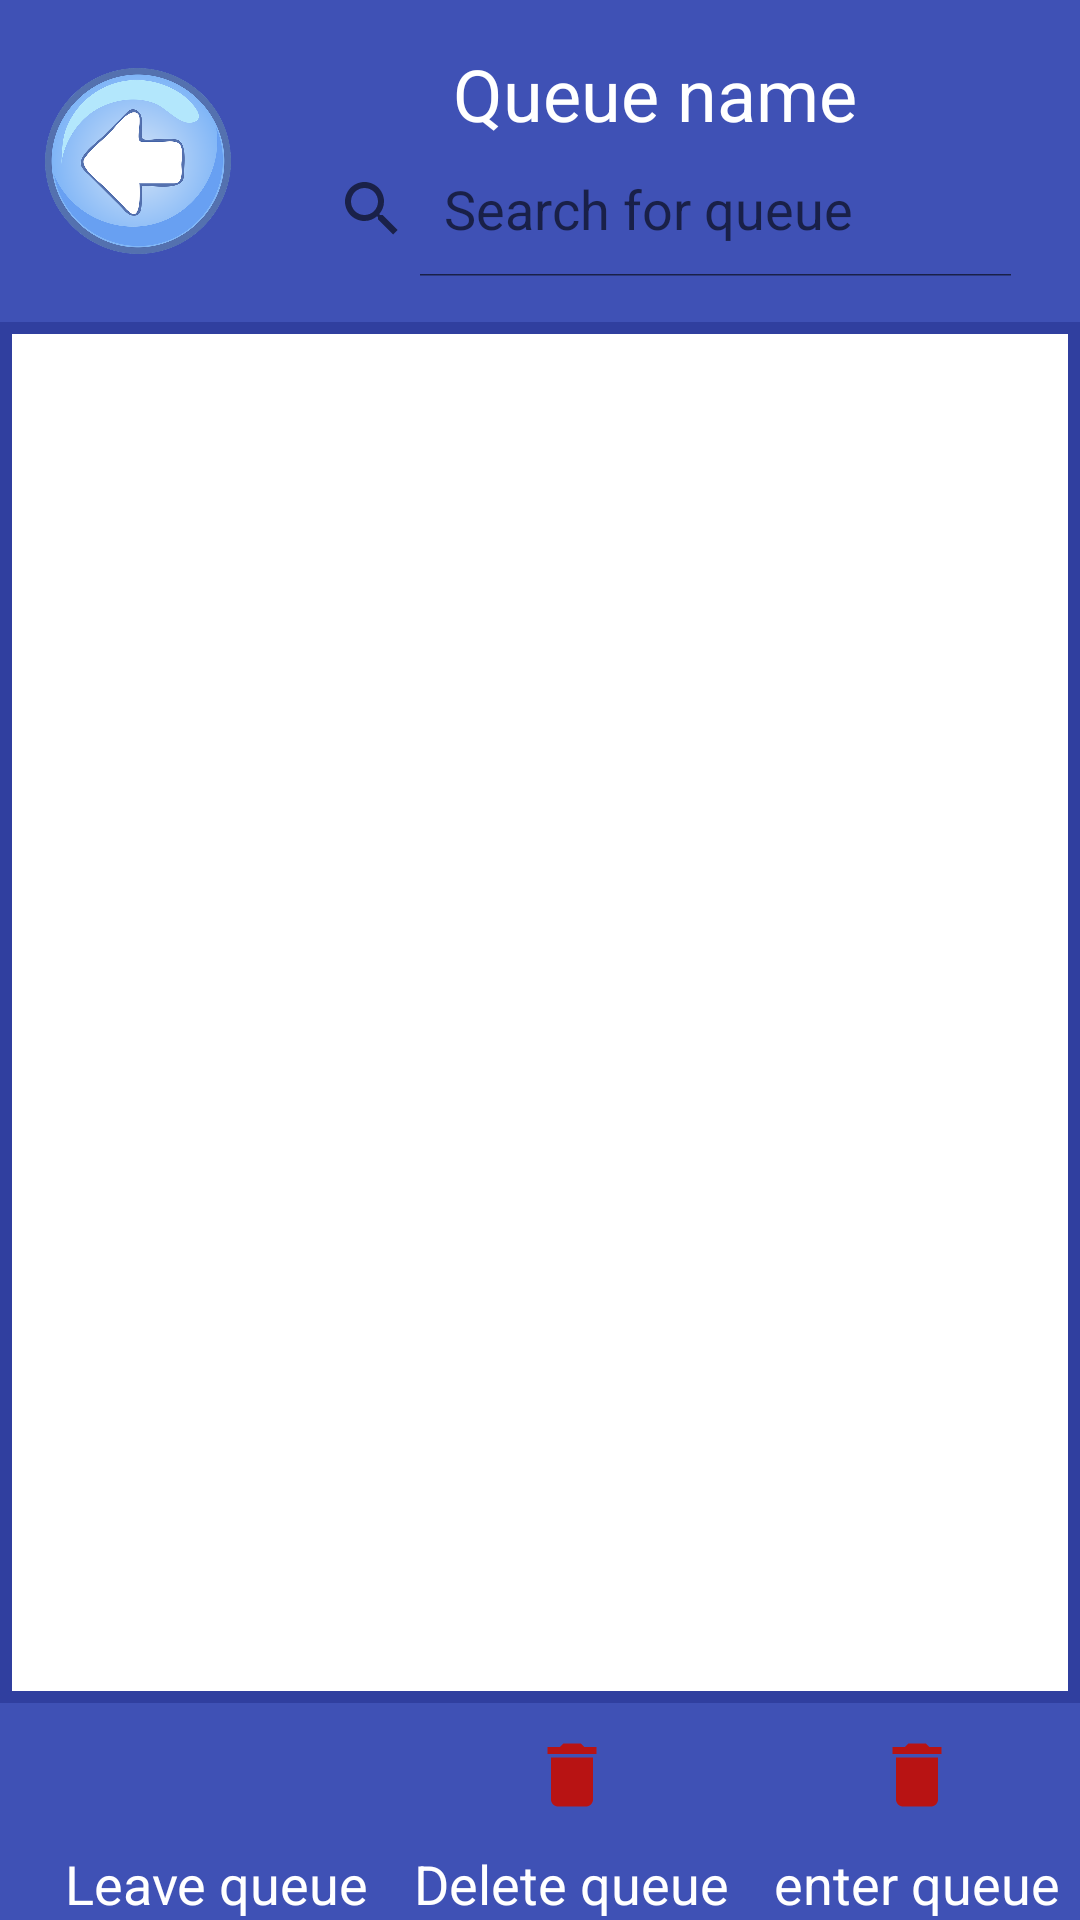

Where to tap for icons on this 1080×1920 app screen, as [x,y]:
back web: [138,161]
